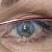eye: (17, 23, 34, 37)
